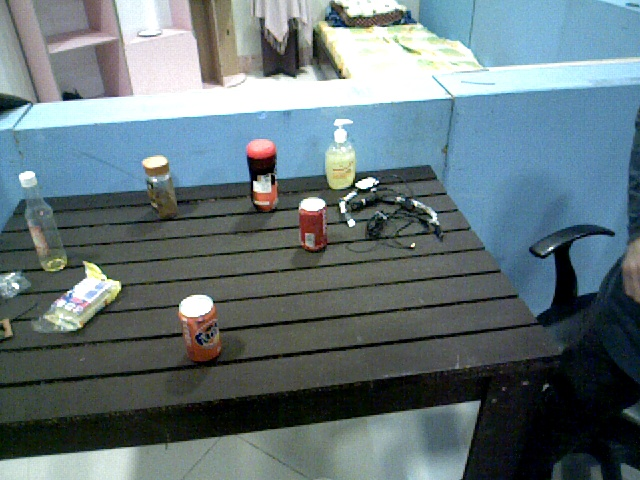coca: (299, 197, 332, 252)
coffee: (144, 155, 181, 222)
cream: (250, 137, 281, 214)
fanta: (178, 295, 223, 364)
